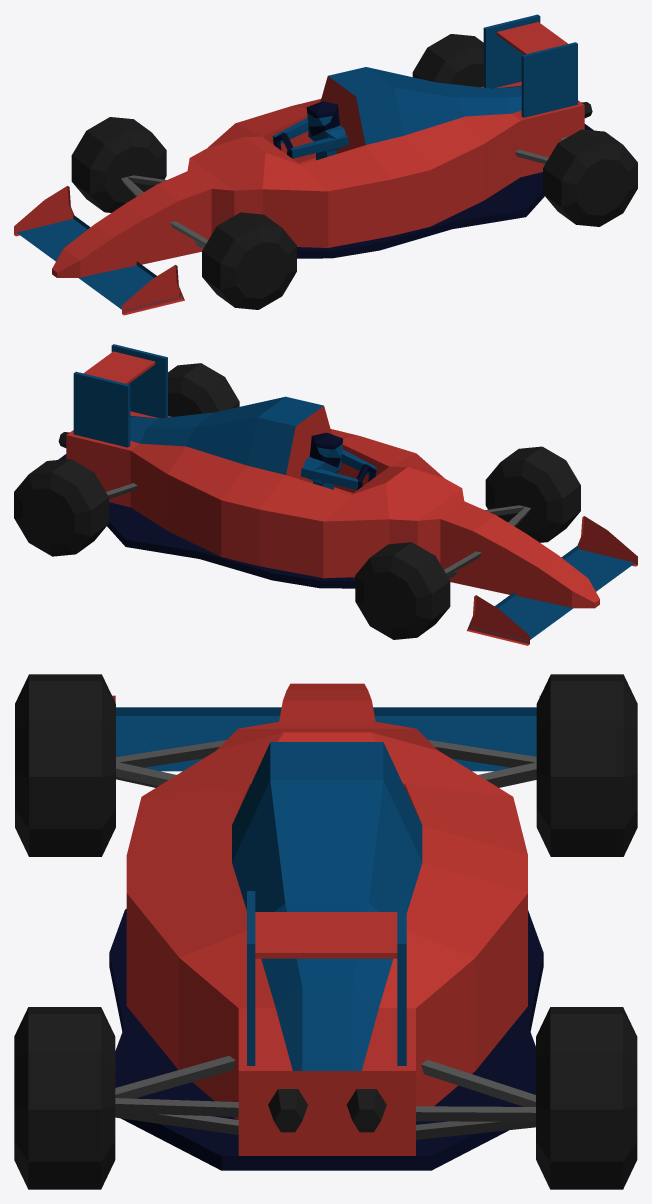
The model's file is race_car.glb.
The picture shows the model from 3 angles, top to bottom: view 1: azimuth 30°, elevation 25°; view 2: azimuth 150°, elevation 25°; view 3: azimuth 270°, elevation 25°; orthographic projection. The views are drawn at different scales.
Parts seen in each view (by area): view 1: Icosphere; view 2: Icosphere; view 3: Icosphere.
Boxes of the visible parts, <box> form: Icosphere: <box>14,14,637,315</box>; Icosphere: <box>14,344,637,645</box>; Icosphere: <box>14,674,637,1189</box>.
Size of the model in its own units: 4.35 by 1.07 by 2.24.
